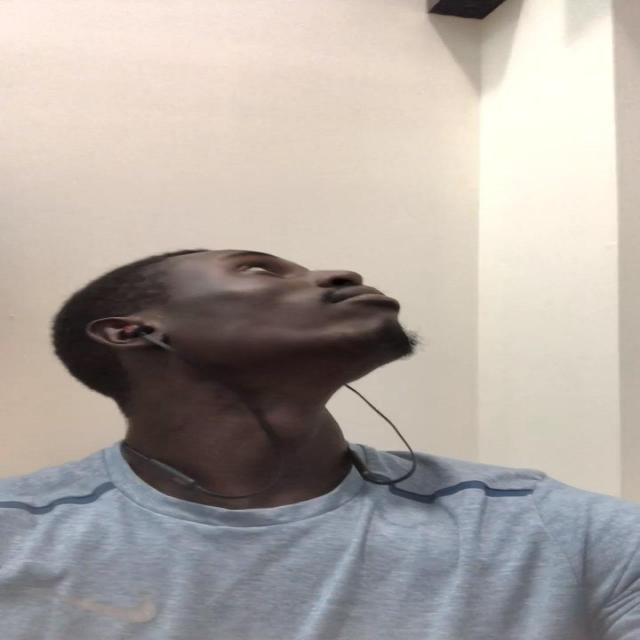face: (130, 250, 418, 382)
